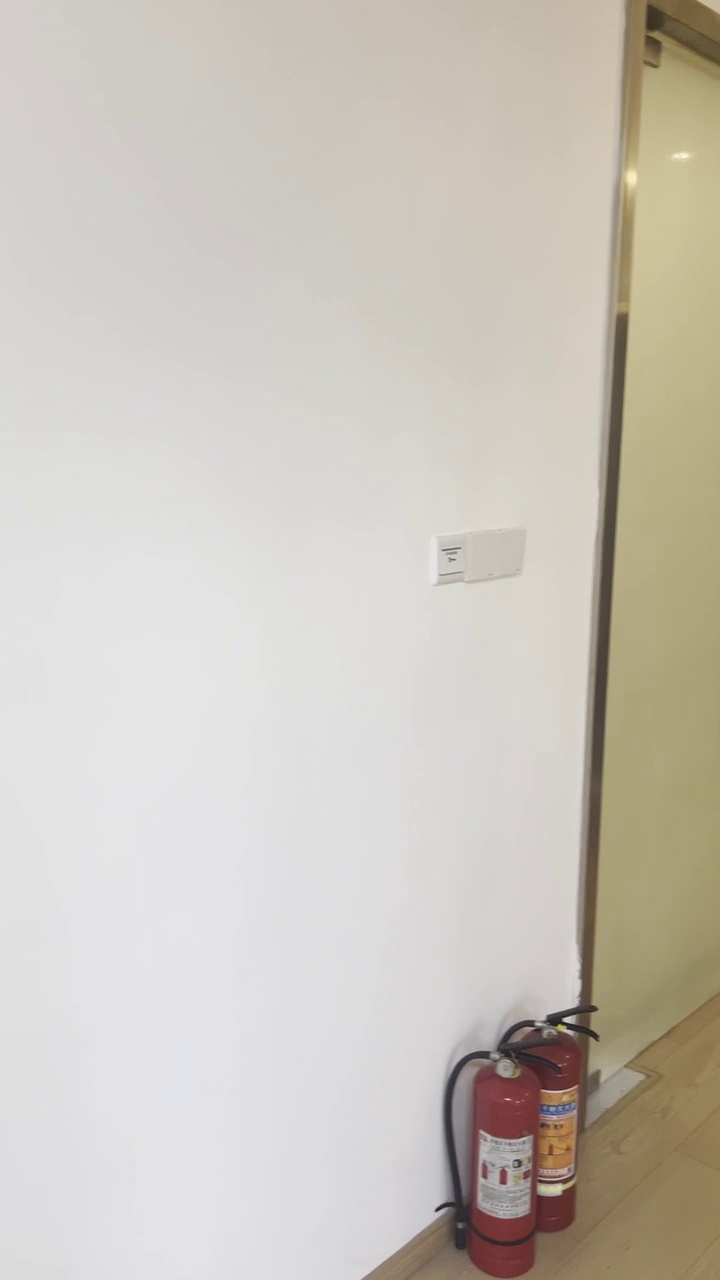button: (466, 529, 502, 583), (493, 527, 528, 579)
